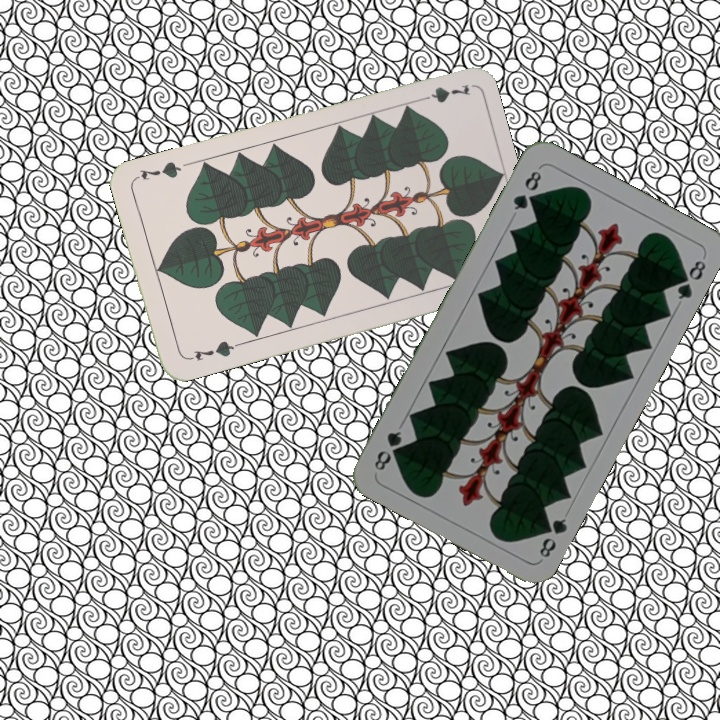G7: (183, 336, 241, 363), (413, 80, 473, 105)
G8: (508, 166, 544, 213), (535, 514, 570, 561)
